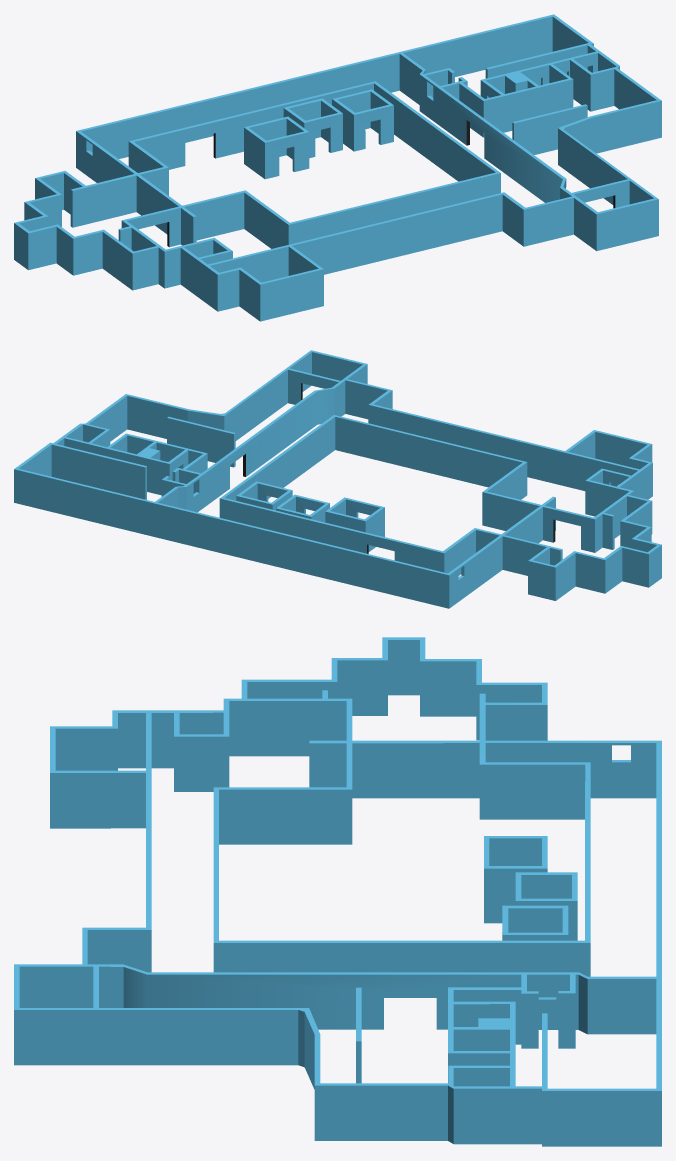
The model's file is Fabrica_Walls.fbx.
The picture shows the model from 3 angles, top to bottom: view 1: azimuth 30°, elevation 25°; view 2: azimuth 150°, elevation 25°; view 3: azimuth 270°, elevation 25°; orthographic projection. The views are drawn at different scales.
Parts seen in each view (by area): view 1: Line032; view 2: Line032; view 3: Line032.
Boxes of the visible parts, x1,y1,x2,y2 form: Line032: [14, 14, 661, 321]; Line032: [14, 350, 661, 608]; Line032: [14, 637, 661, 1146].
Bounding box in the file's own units: 5720 × 326 × 3453.
